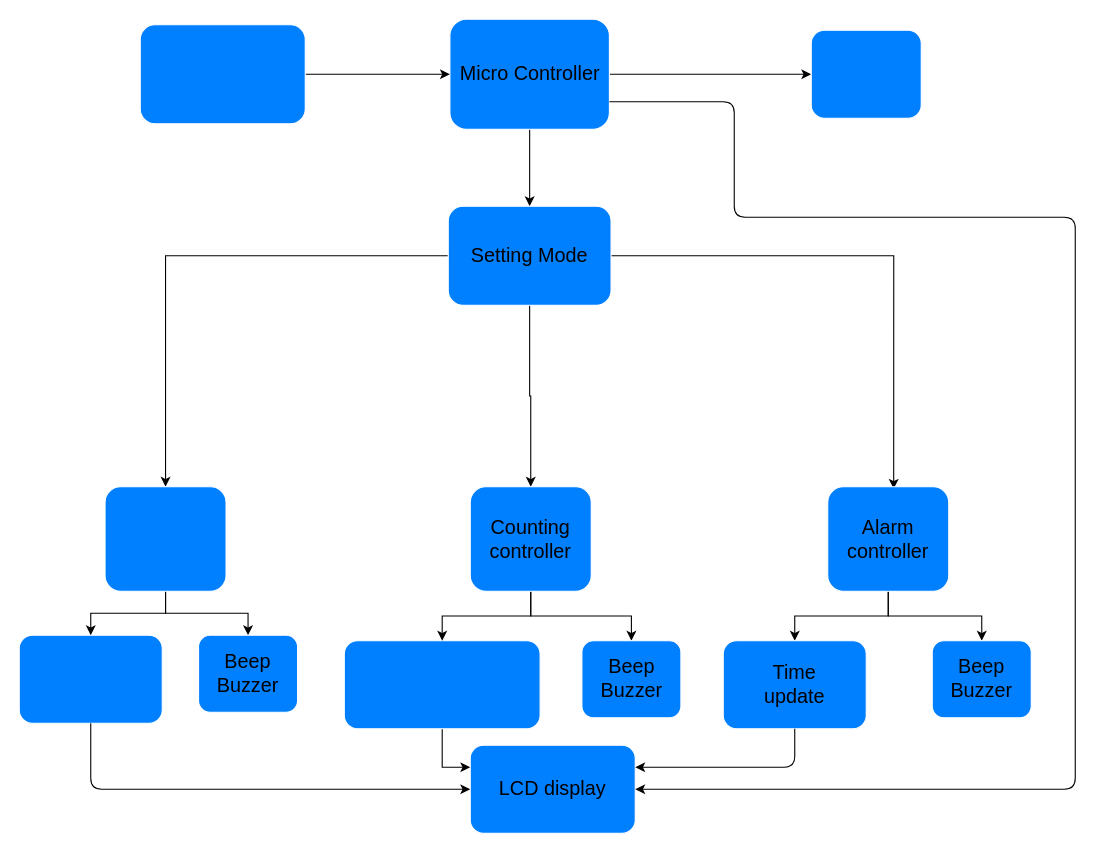
Some shapes in this 1103 by 853 pixel diagram are drawn without their labels. The shapes that lost their labels are listed below. From the top down, each one's centre as x and y in pixels, then its label:
At point 222,74: "Button Interface".
At point 865,73: "Speaker Alarm".
At point 165,538: "Time current controller".
At point 90,678: "Hour and minute update".
At point 441,684: "Counting down time update".
